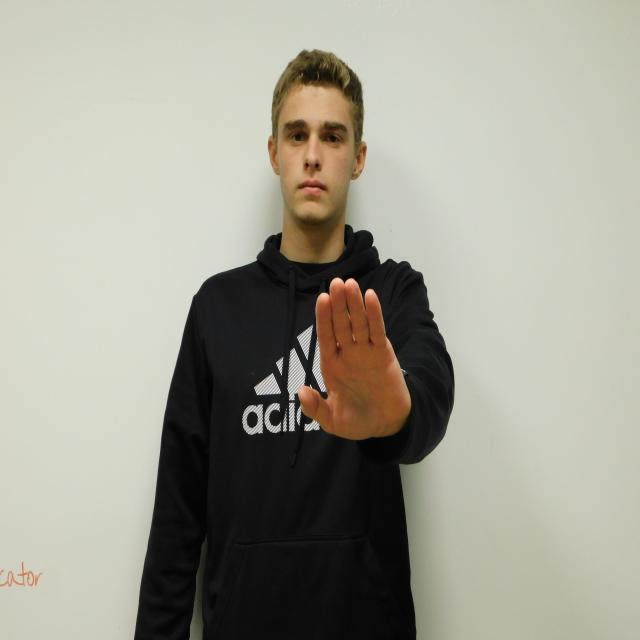your: (298, 277, 407, 441)
